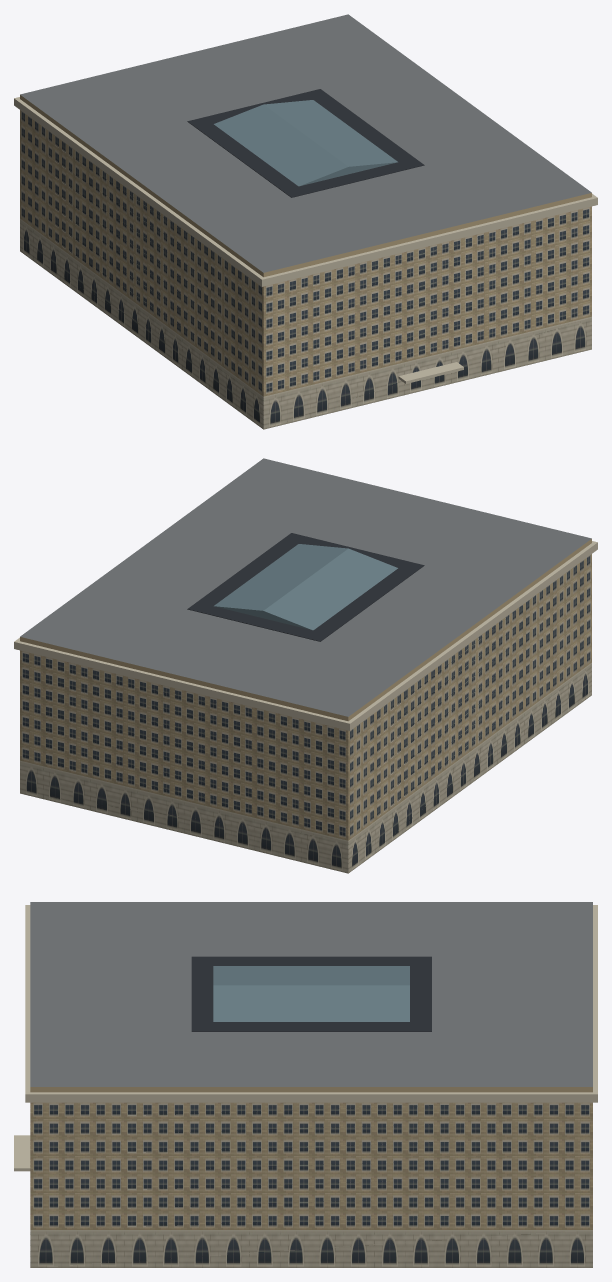
Rendered from palace_hotel.glb.
3 renders of one model, top to bottom at view 1: azimuth 30°, elevation 25°; view 2: azimuth 150°, elevation 25°; view 3: azimuth 270°, elevation 25°, orthographic. The views are drawn at different scales.
Parts seen in each view (by area): view 1: palace_hotel; view 2: palace_hotel; view 3: palace_hotel.
Boxes of the visible parts, box(x1,y1,x2,y2) form: palace_hotel: box(14, 14, 597, 429); palace_hotel: box(14, 458, 597, 873); palace_hotel: box(14, 902, 597, 1267).
Size of the model in its own units: 79 by 36.99 by 103.
Materials: 2 (2 with a texture image).
